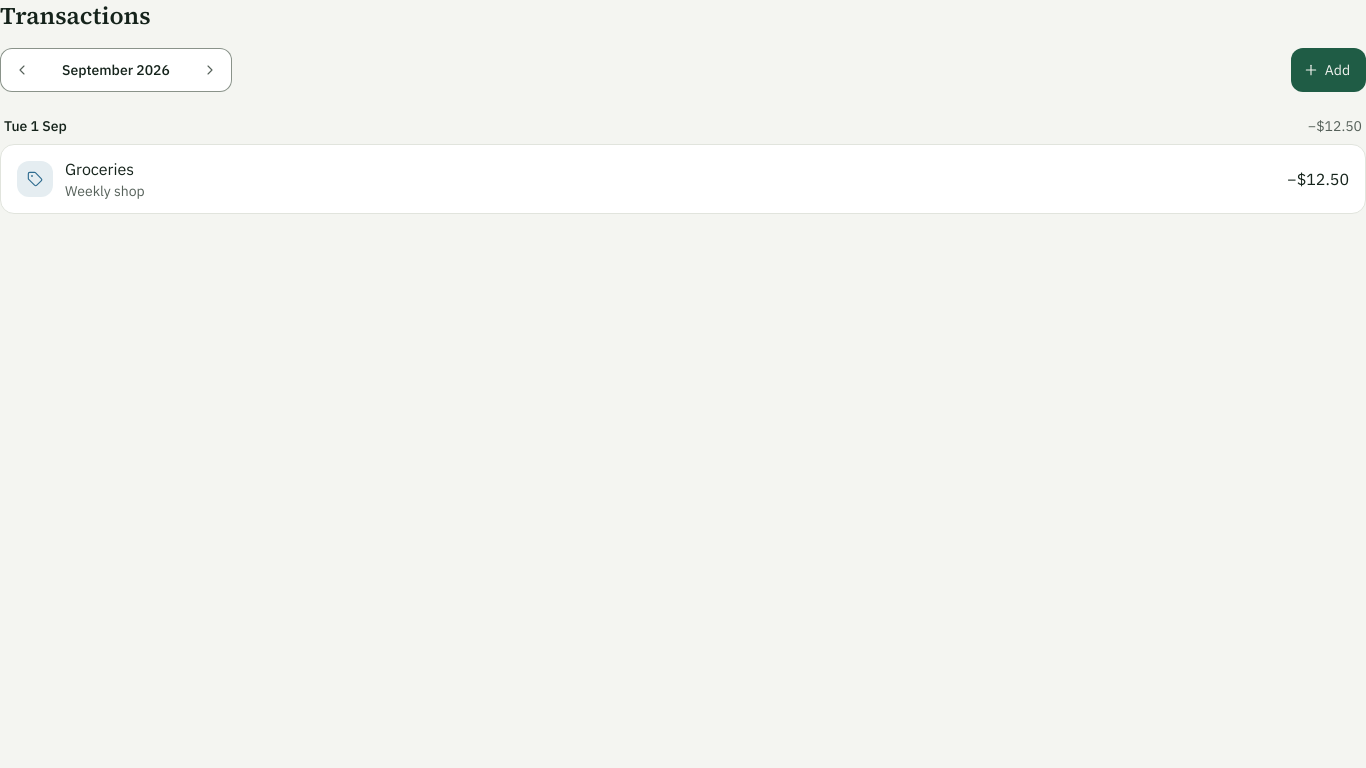
Test: TransactionsPage mobile row › opens a read-only detail card when the row is tapped
Expected: the text "Weekly shop" is shown, left=65, top=182, right=145, bottom=200
Click the text "Groceries" at x=100, y=169, box left=65, top=157, right=134, bottom=181
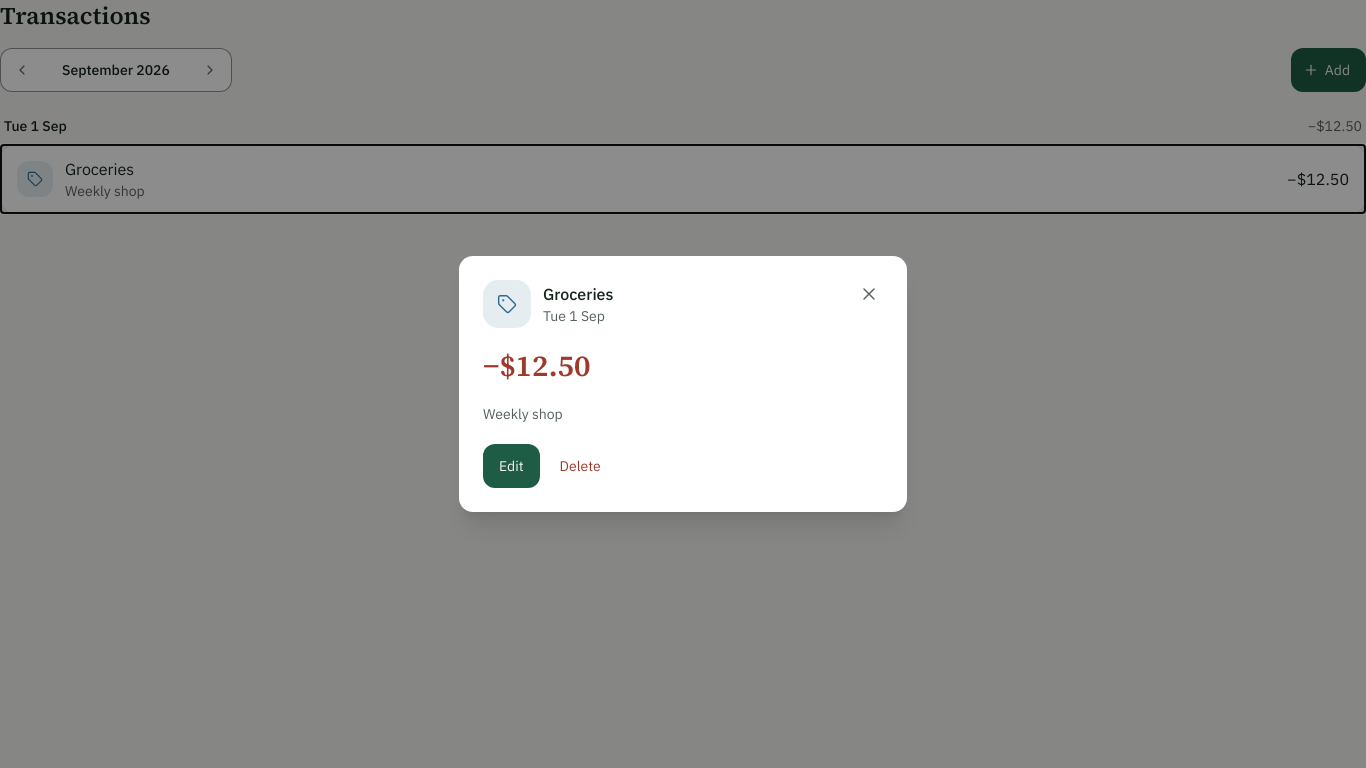
Expected: the text "Groceries" is shown 2 times, left=65, top=157, right=134, bottom=181; left=543, top=282, right=613, bottom=306
Expected: the text "Weekly shop" is shown 2 times, left=65, top=182, right=145, bottom=200; left=483, top=405, right=563, bottom=423
